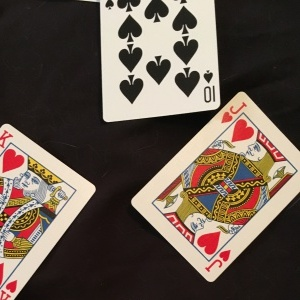card: (130, 98, 299, 282), (98, 1, 226, 114)
